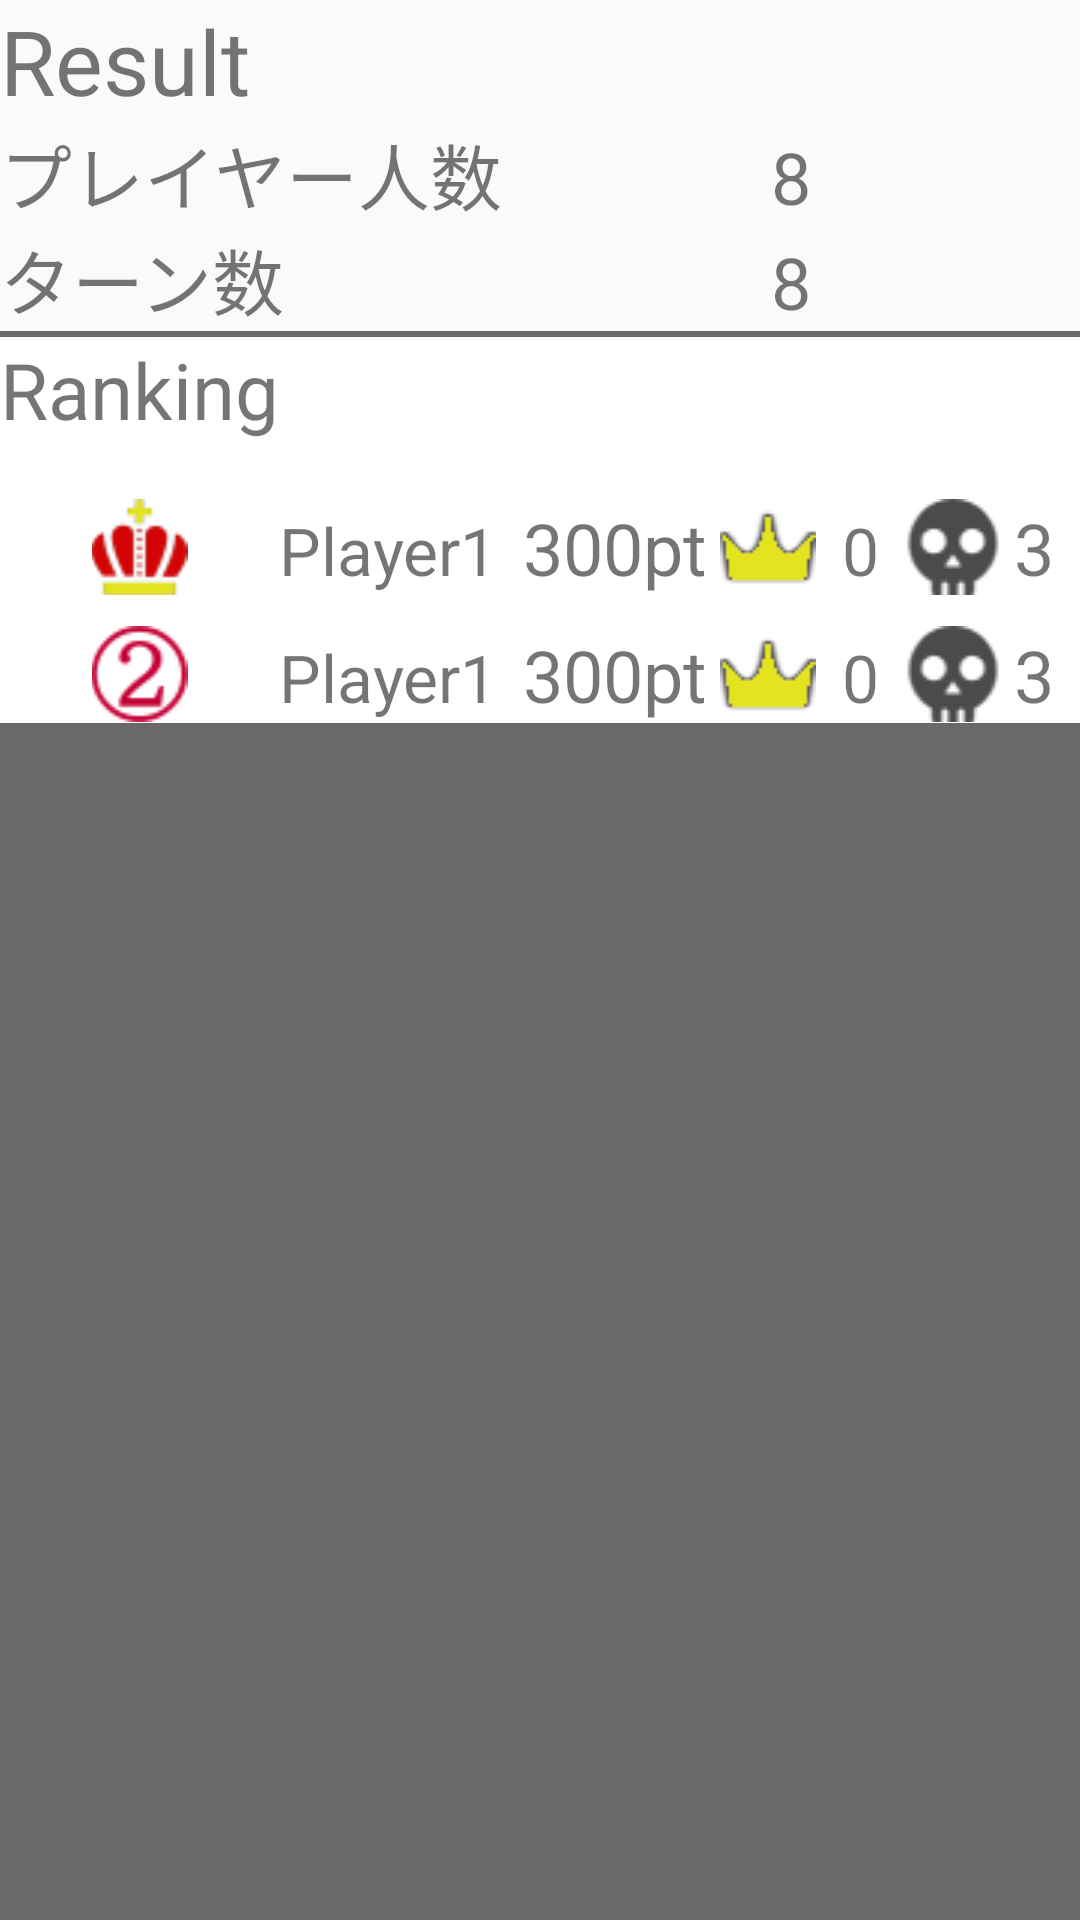

Locate icon controls on the screen. Image size 1080×1920, boxes as [left=x1, top=y1, right=x2, bottom=y2].
number: [left=92, top=626, right=188, bottom=722]
scul: [left=907, top=499, right=999, bottom=595], [left=907, top=626, right=999, bottom=722]
